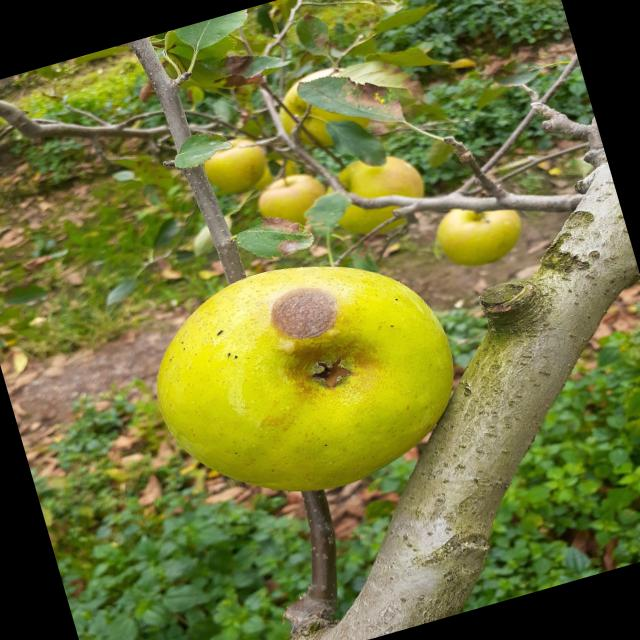rotten: (117, 219, 502, 543)
